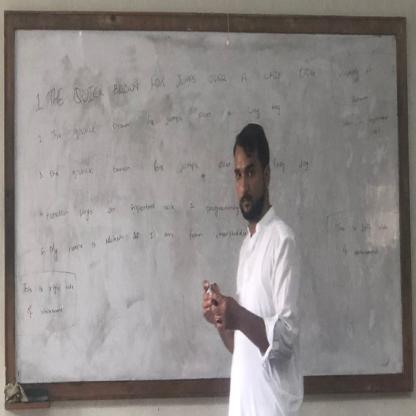Handwritten text: (41, 48, 325, 116), (46, 92, 285, 146), (44, 148, 202, 186)
Lecturer: (201, 115, 311, 407)
Whiteboard: (10, 23, 408, 387)
